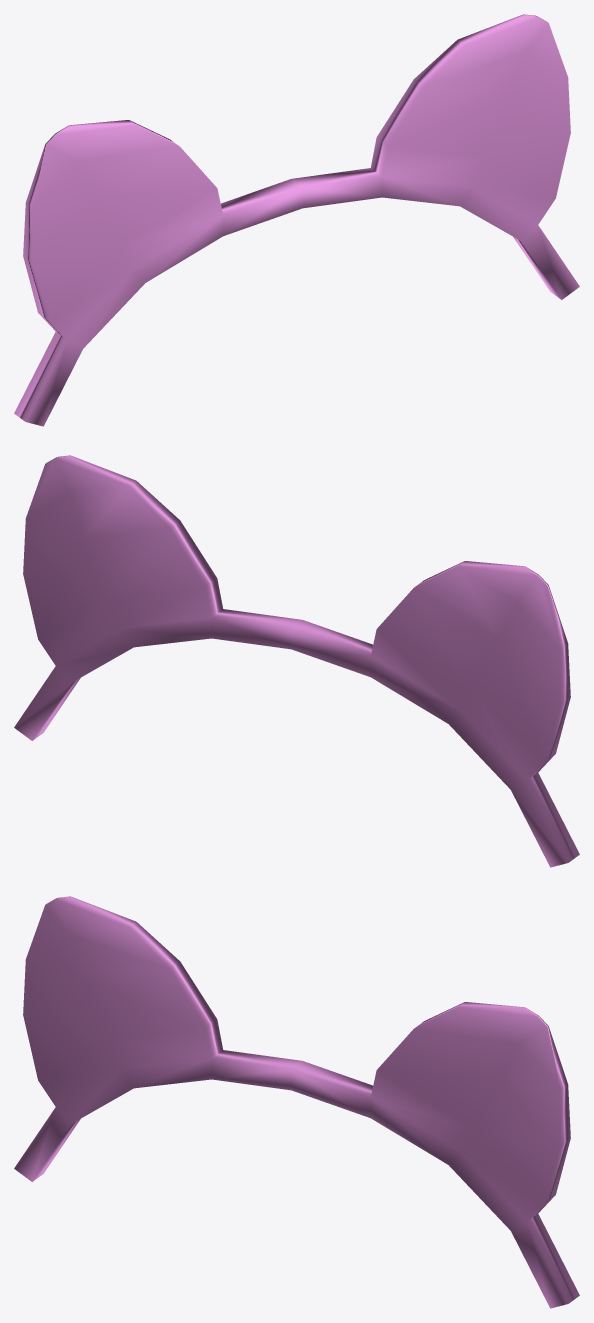
Rendered from Cat_Hat.fbx.
3 renders of one model, top to bottom at view 1: azimuth 30°, elevation 25°; view 2: azimuth 150°, elevation 25°; view 3: azimuth 330°, elevation 25°, orthographic.
Parts seen in each view (by area): view 1: Cube.001; view 2: Cube.001; view 3: Cube.001.
Boxes of the visible parts, left/top/right/bottom form: Cube.001: left=14, top=14, right=579, bottom=426; Cube.001: left=14, top=455, right=579, bottom=867; Cube.001: left=14, top=896, right=579, bottom=1308.
Bounding box in the file's own units: 161 × 80.32 × 6.19.
